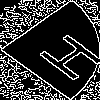H: (25, 25, 100, 83)
